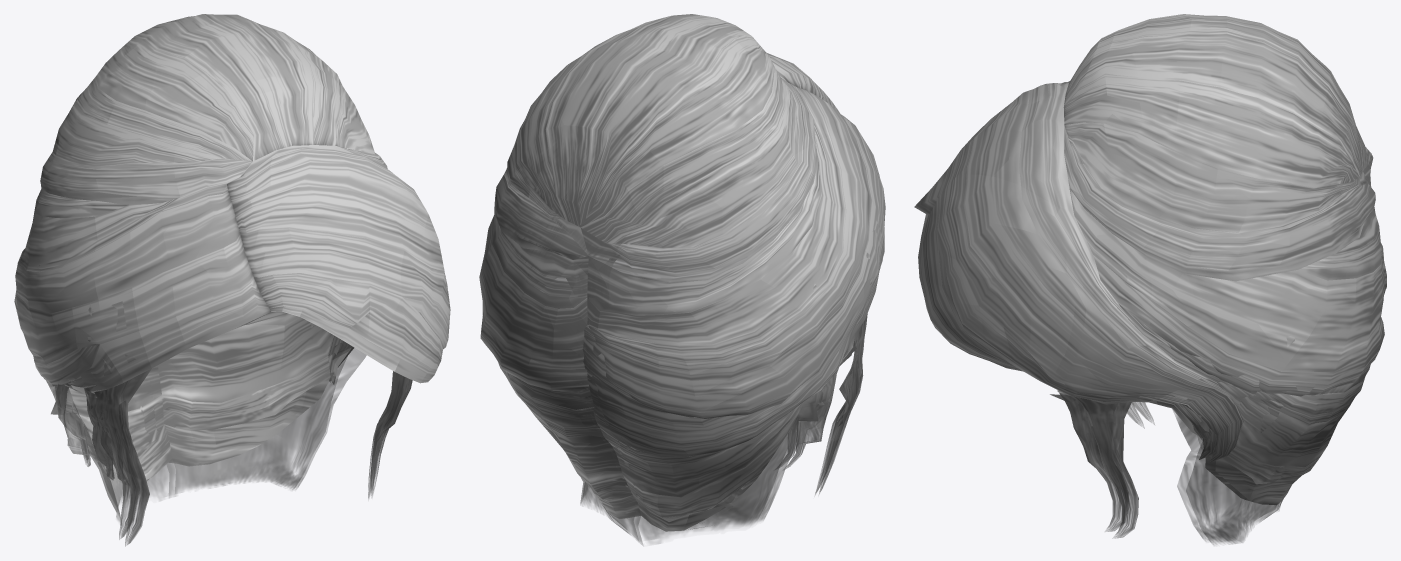
File: hair_braid01.glb
3 views of the same model, side by side, from view 1: azimuth 30°, elevation 25°; view 2: azimuth 150°, elevation 25°; view 3: azimuth 270°, elevation 25° (orthographic). The views are drawn at different scales.
Parts seen in each view (by area): view 1: hair_braid01; view 2: hair_braid01; view 3: hair_braid01.
Part boxes in pixels (bbox=[...]): hair_braid01: bbox=[14, 14, 450, 546]; hair_braid01: bbox=[479, 14, 885, 545]; hair_braid01: bbox=[914, 14, 1386, 544].
Bounding box in the file's own units: 0.171 × 0.2379 × 0.208.
1 material, 1 textured.
